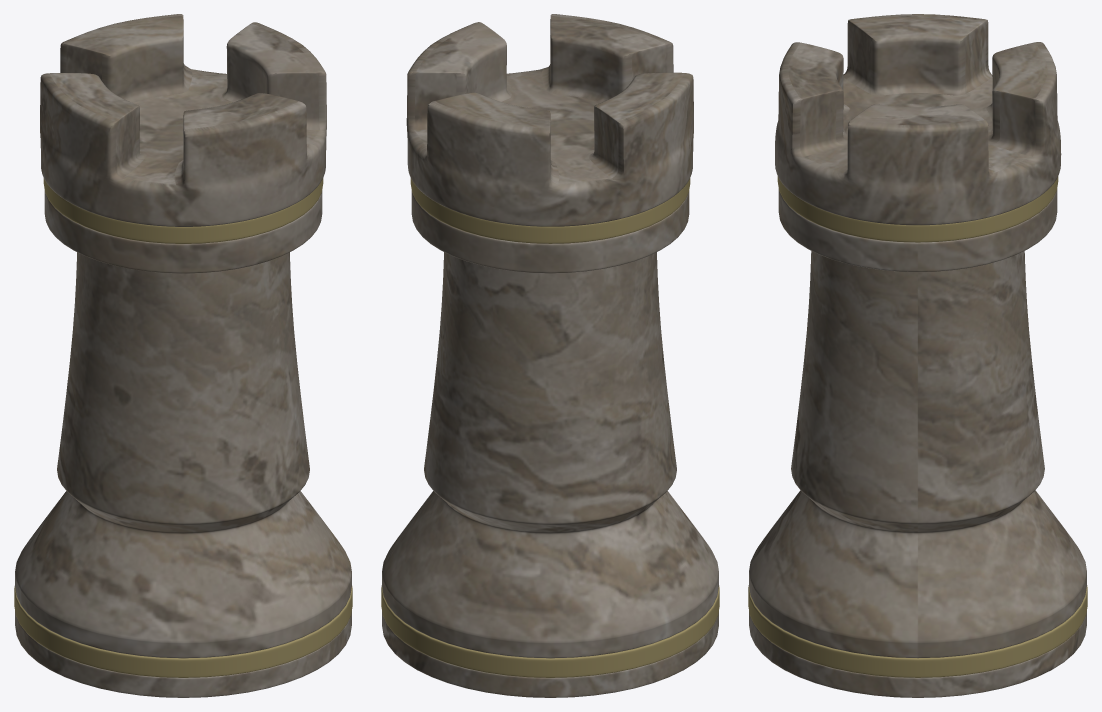
Rendered from rook.glb.
3 renders of one model, left to right at view 1: azimuth 30°, elevation 25°; view 2: azimuth 150°, elevation 25°; view 3: azimuth 270°, elevation 25°, orthographic.
Parts seen in each view (by area): view 1: Castle_W1; view 2: Castle_W1; view 3: Castle_W1.
Boxes of the visible parts, x1,y1,x2,y2 form: Castle_W1: (14, 14, 352, 697); Castle_W1: (381, 14, 719, 697); Castle_W1: (748, 14, 1087, 697).
Bounding box in the file's own units: 0.0537 × 0.0971 × 0.0537.
Materials: 1 (1 with a texture image).
